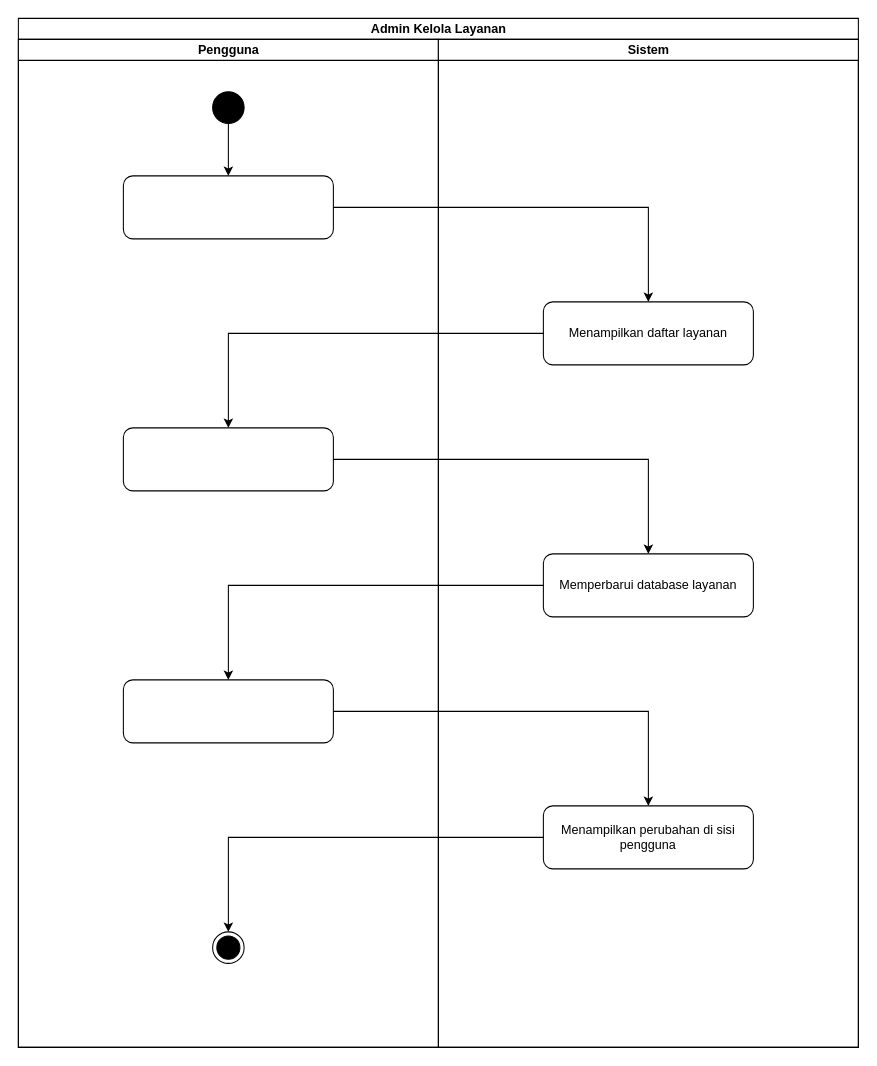
The diagram is 877 pixels wide and 1066 high, and some of its shapes have lost their labels. The centre of each missing label's shape, as x and y in pixels:
"atau menghapus data layanan rias" belongs at (227,711).
"Menambah" belongs at (227,207).
"mengubah" belongs at (227,459).
